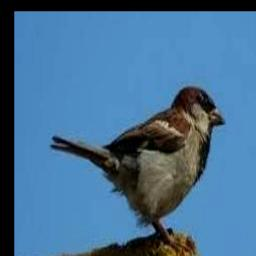Sparrow: (50, 86, 225, 254)
